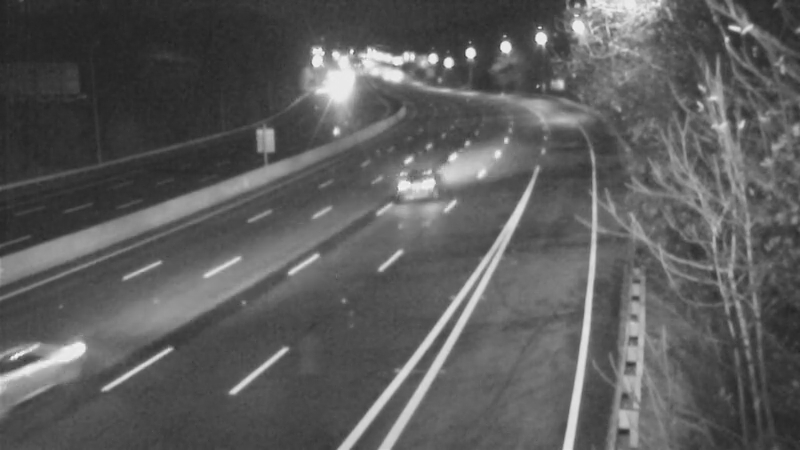vehicle: (1, 313, 106, 423), (380, 141, 460, 221), (311, 66, 361, 116)
